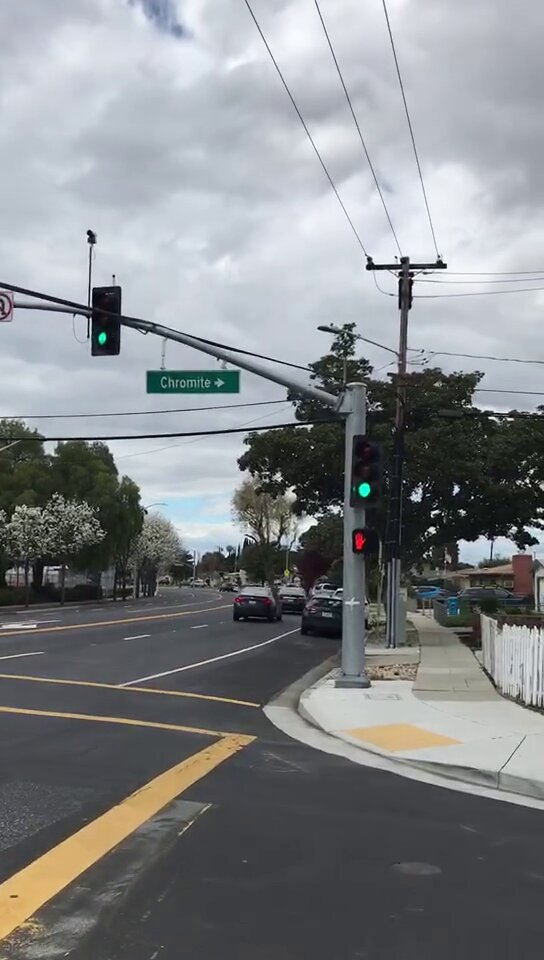green_light: (353, 435, 383, 505), (93, 286, 121, 356)
